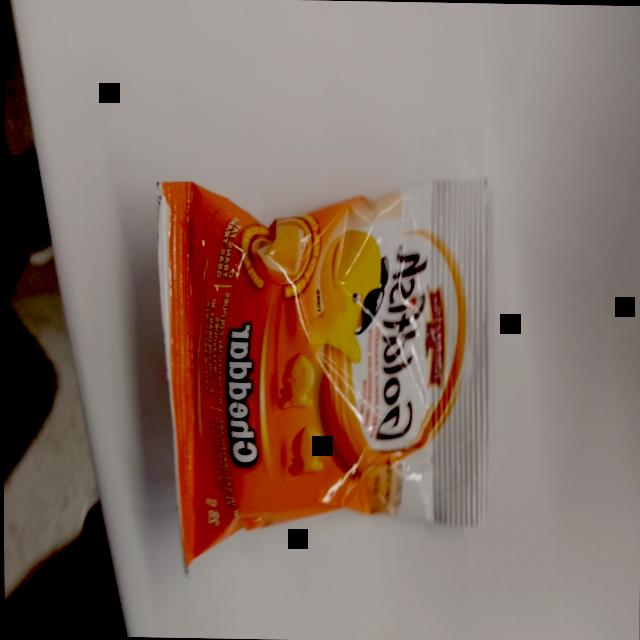crackers: (145, 161, 496, 595)
